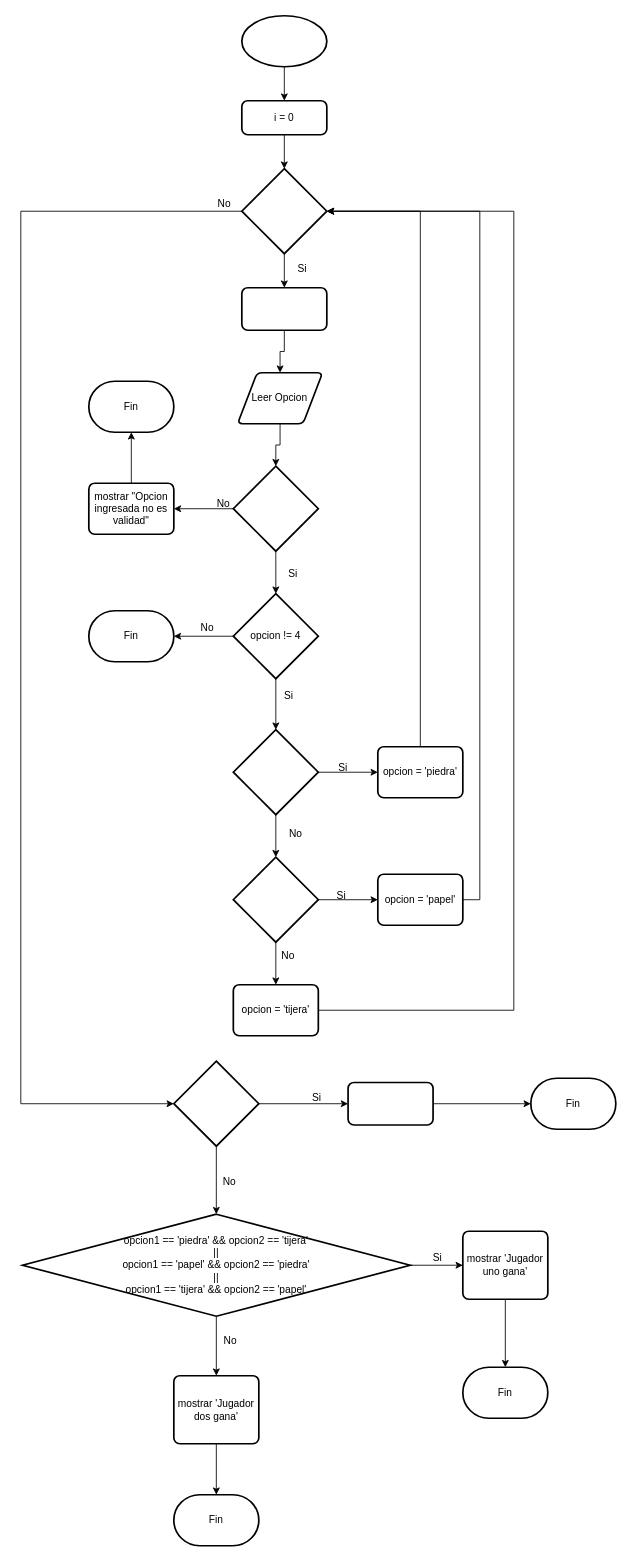
Image size: 632x1561. Some labels were removed from this diagram. Here are the shapes that lost their labels. From the top down, the centre of each, then its label:
At (x=284, y=40): "Inicio".
At (x=284, y=210): "i < 2".
At (x=284, y=308): "mostrar menú i +=1".
At (x=275, y=508): "opcion includes opciones_menu".
At (x=275, y=771): "opcion == 1".
At (x=275, y=899): "opcion == 2".
At (x=216, y=1103): "opcion1 == opcion2".
At (x=390, y=1103): "Mostrar 'Empate'".
